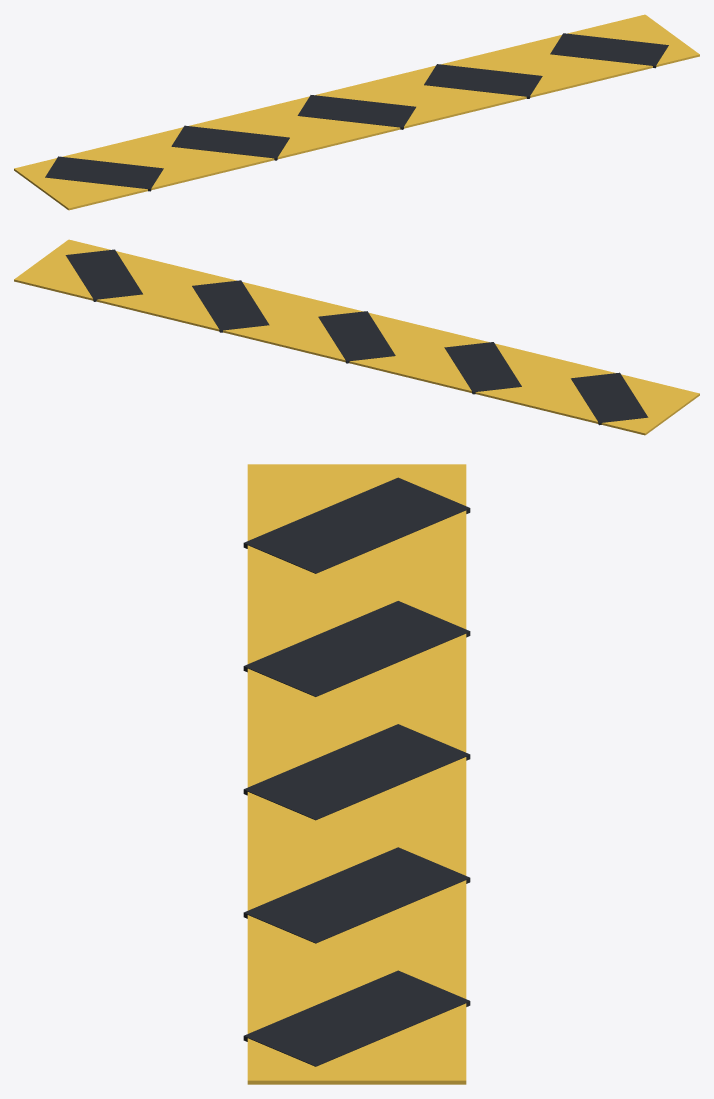
The model's file is marcacao_perigo.glb.
The picture shows the model from 3 angles, top to bottom: view 1: azimuth 30°, elevation 25°; view 2: azimuth 150°, elevation 25°; view 3: azimuth 270°, elevation 25°; orthographic projection. The views are drawn at different scales.
Parts seen in each view (by area): view 1: tinta, listra (×5); view 2: tinta, listra (×5); view 3: tinta, listra (×5).
Boxes of the visible parts, box(x1,y1,x2,y2) form: tinta: box(14, 14, 699, 210); listra (×5): box(45, 33, 668, 191); tinta: box(14, 239, 699, 435); listra (×5): box(65, 249, 648, 425); tinta: box(247, 464, 466, 1084); listra (×5): box(243, 477, 470, 1066).
Bounding box in the file's own units: 1 × 0.0035 × 0.1556.
